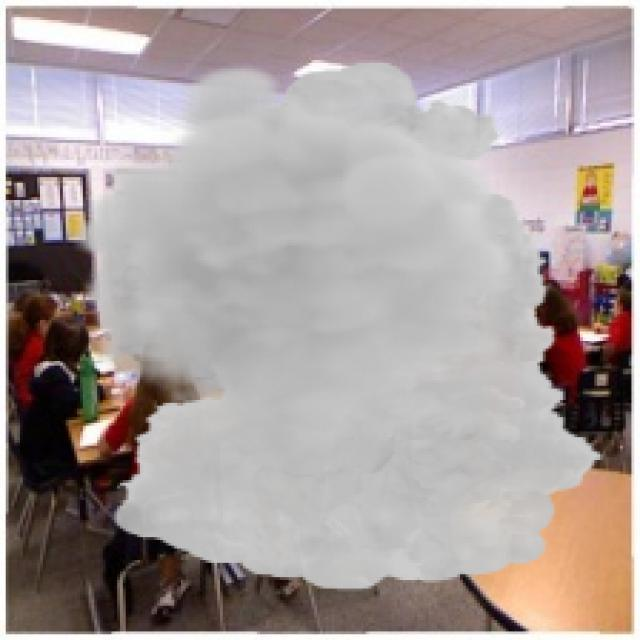Smoke: (71, 59, 606, 592)
